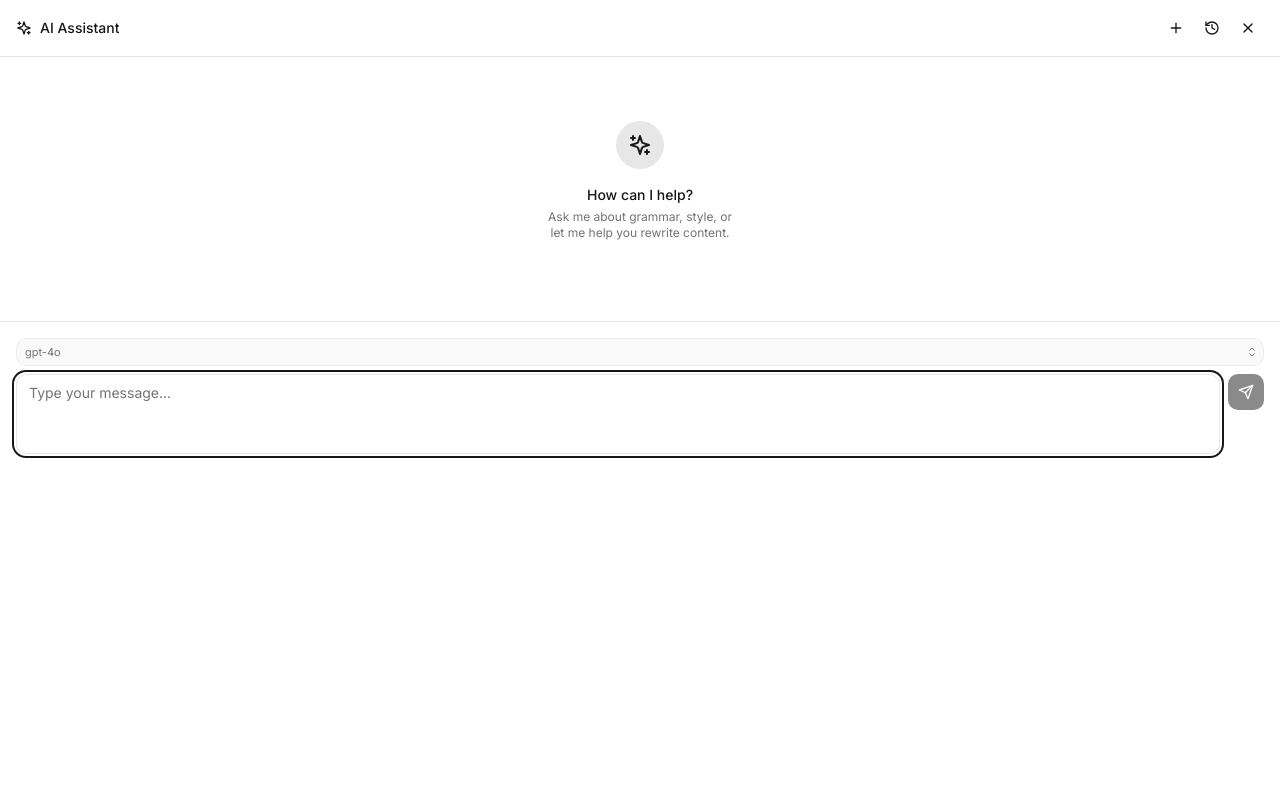
Test case: chat history filtering › does not show quick AI action entries in chat history
Step 1. Click the button titled "Chat History" → (1212, 28), box [1196,12,1228,44]
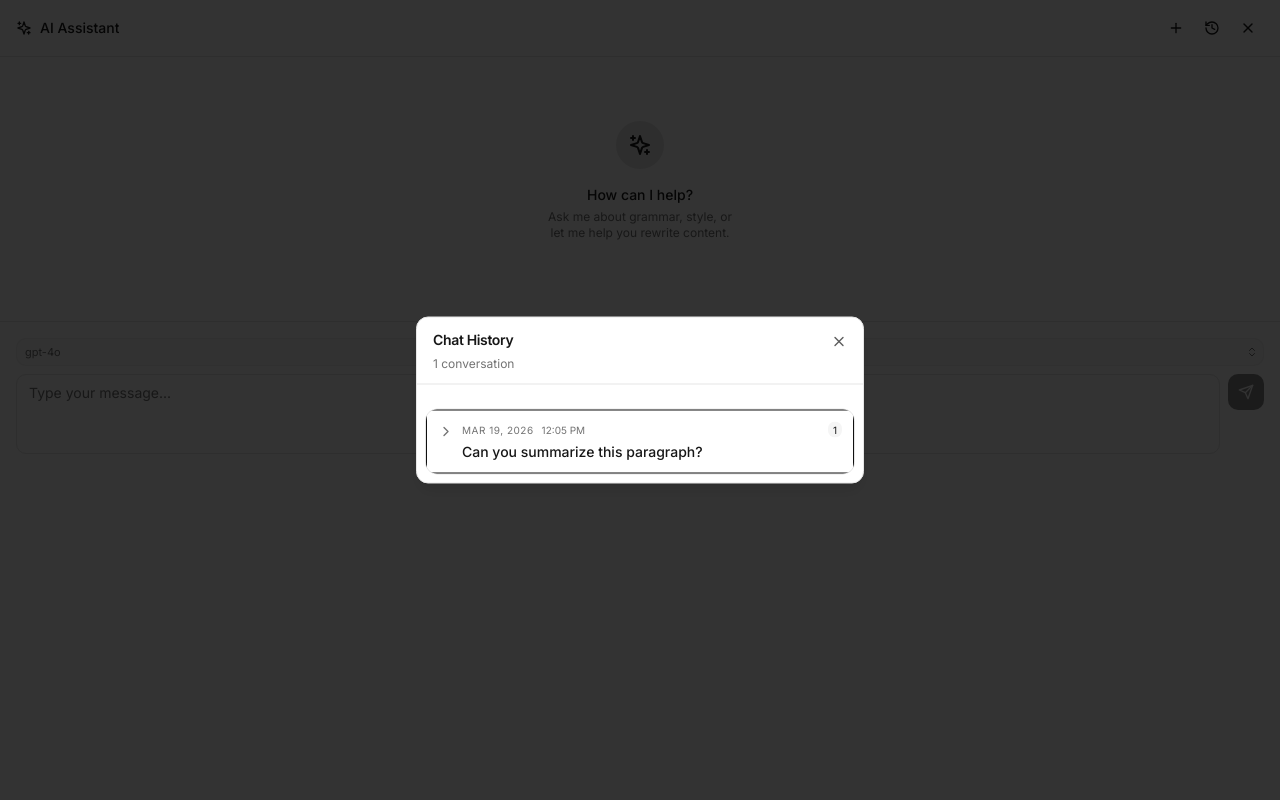
Now the text "Can you summarize this paragraph?" is shown, box [462,442,703,460]
